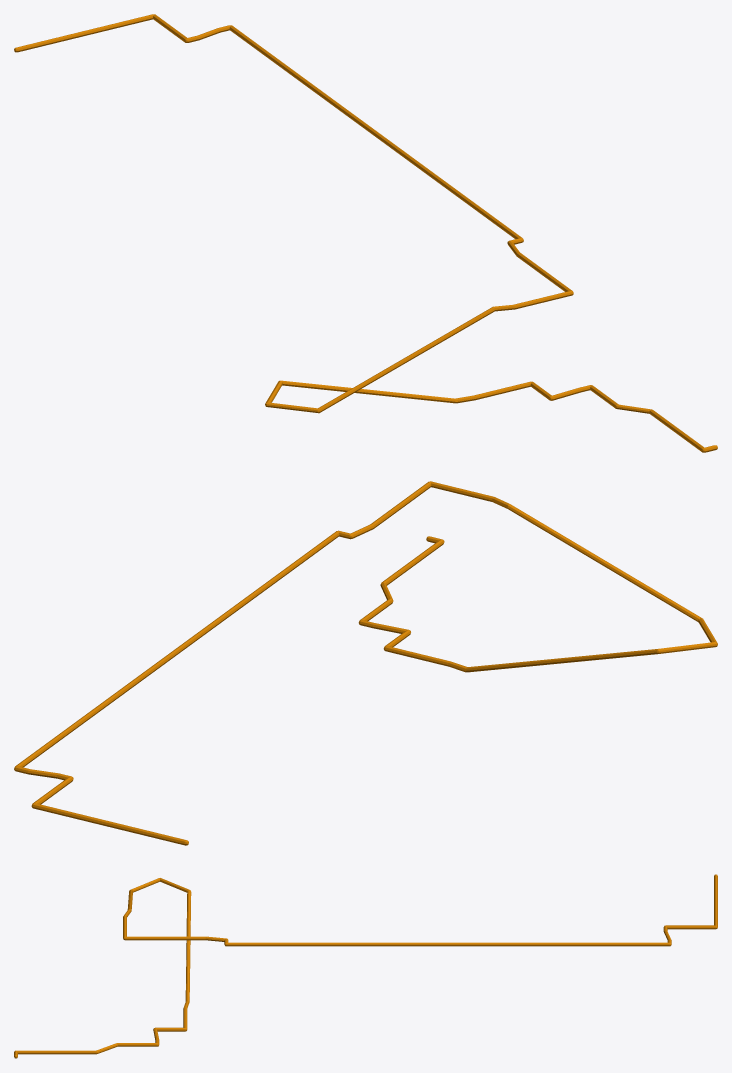
The picture shows the model from 3 angles, top to bottom: view 1: azimuth 30°, elevation 25°; view 2: azimuth 150°, elevation 25°; view 3: azimuth 270°, elevation 25°; orthographic projection. The views are drawn at different scales.
Size of the model in its own units: 1563 by 520 by 3495.
